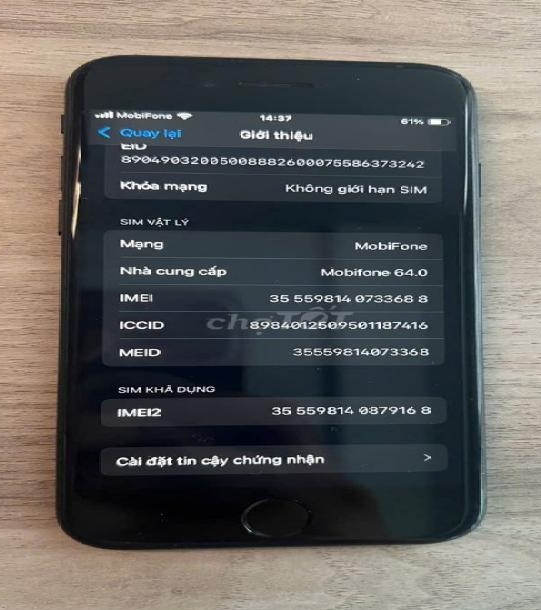scratch: (346, 58, 462, 90)
screen_defect: (62, 135, 87, 241)
